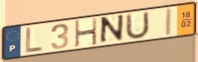3: (50, 23, 71, 50)
H: (74, 17, 99, 49)
I: (163, 7, 174, 39)
L: (25, 26, 44, 54)
N: (98, 13, 126, 47)
U: (124, 10, 151, 42)
